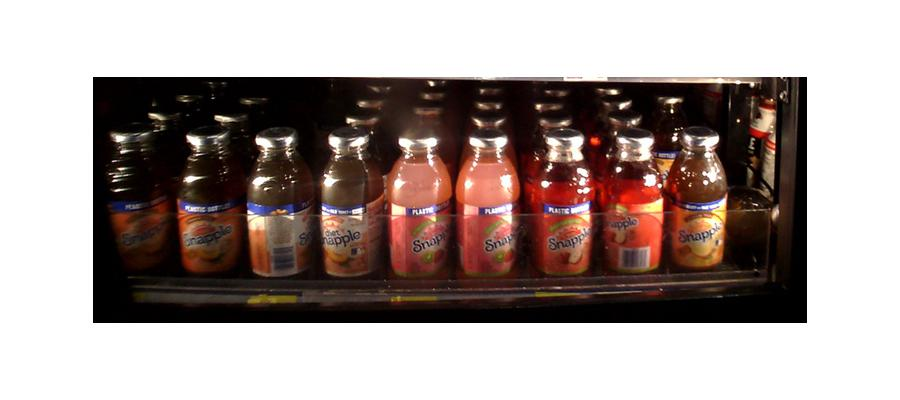bottle: (105, 111, 174, 279), (247, 124, 313, 280), (320, 124, 384, 282), (178, 123, 242, 277), (599, 127, 663, 275), (529, 127, 592, 277), (457, 129, 519, 279), (389, 131, 450, 283), (669, 124, 726, 273)
